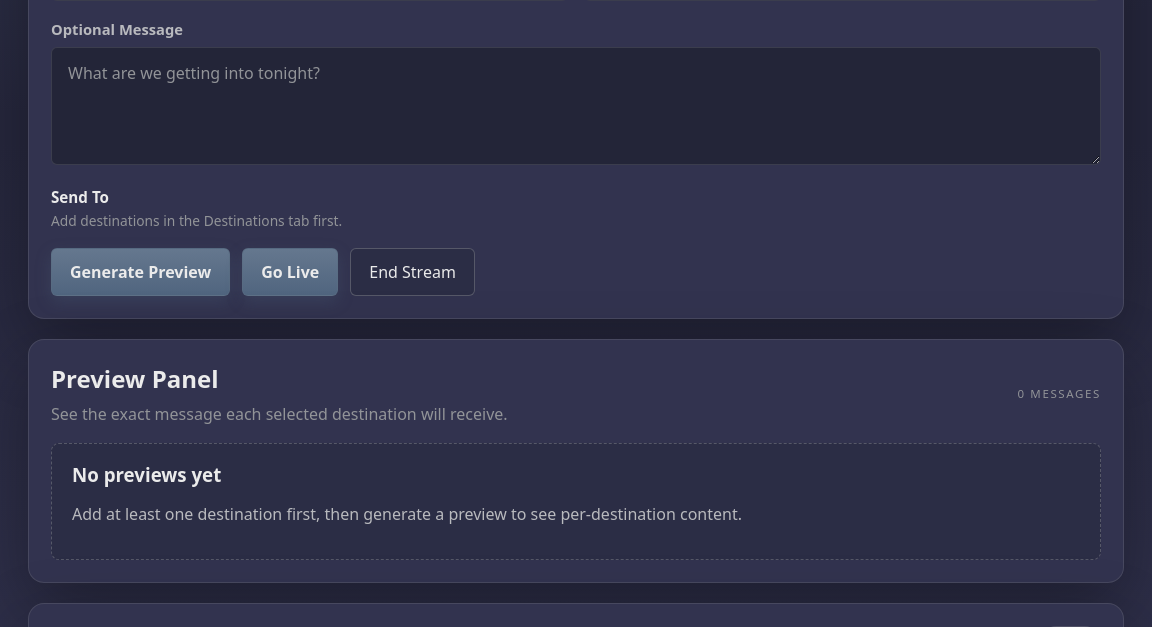
Scenario: App › shows preview validation notes from the backend
(page scrolled)
Click the button "Generate Preview". click: (141, 272)
box: [51,248,230,296]
(page scrolled)
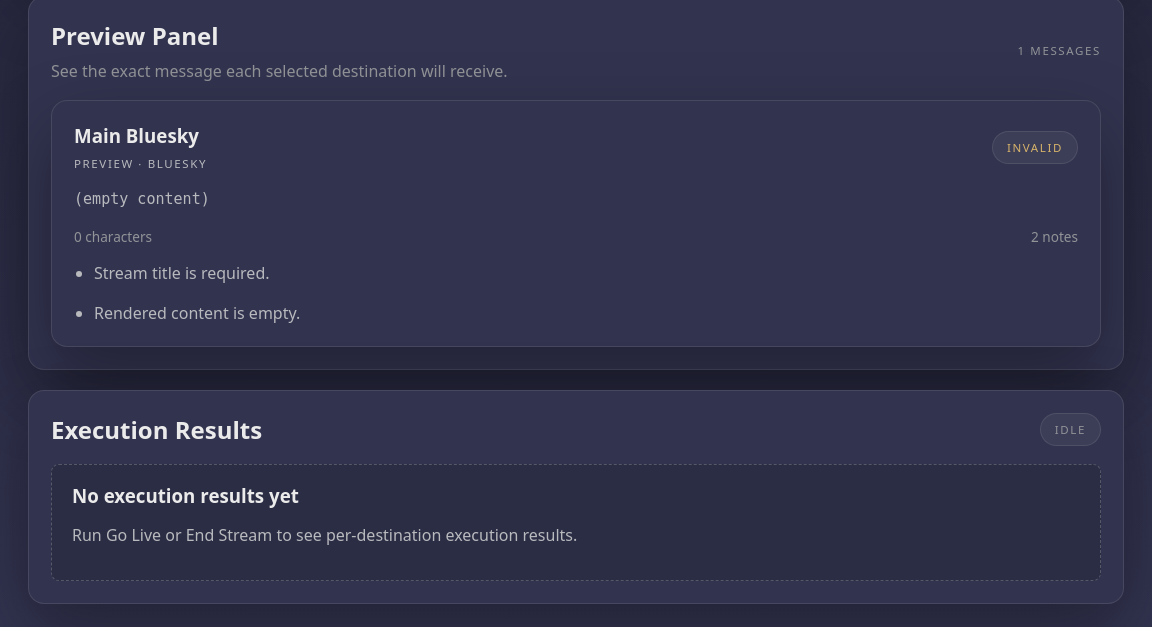
expect the text "INVALID" is shown: met, box [992,130,1078,164]
expect the list item "Stream title is required." is shown: met, box [94,262,270,284]
expect the list item "Rendered content is empty." is shown: met, box [94,302,300,324]
